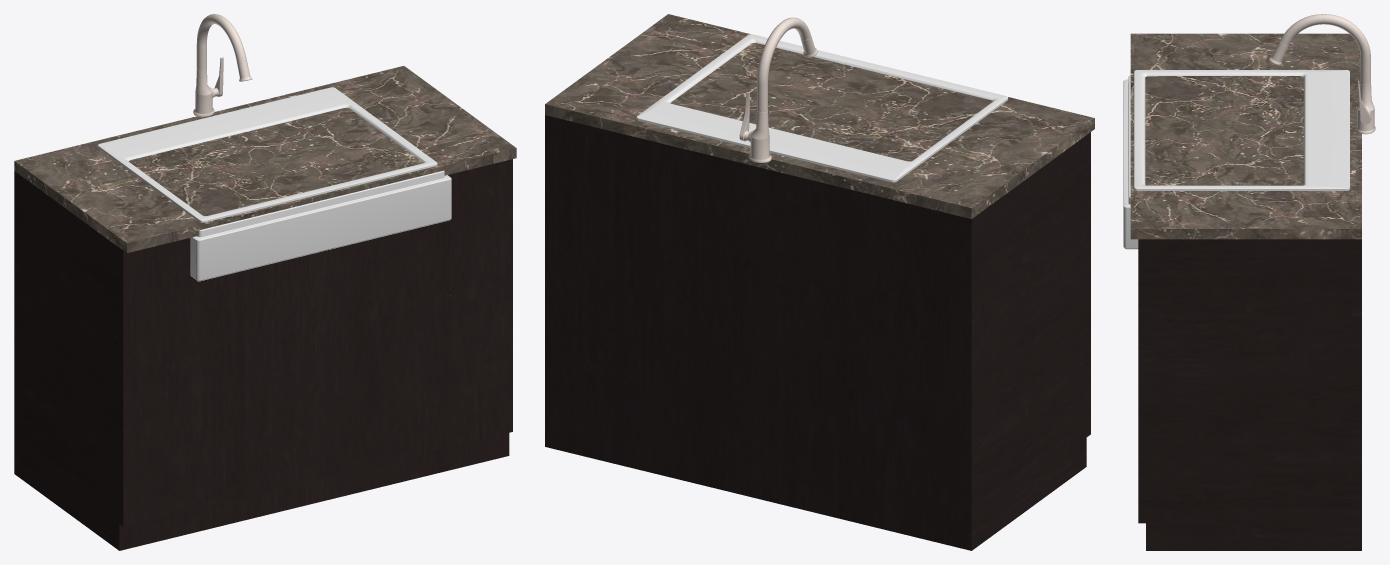
The model's file is kitchen_sink.glb.
The picture shows the model from 3 angles, left to right: view 1: azimuth 30°, elevation 25°; view 2: azimuth 150°, elevation 25°; view 3: azimuth 270°, elevation 25°; orthographic projection. The views are drawn at different scales.
Visible parts, largest first — view 1: countertop_i_4x2, sink_10, faucet_2; view 2: countertop_i_4x2, sink_10, faucet_2; view 3: countertop_i_4x2, sink_10, faucet_2.
Boxes of the visible parts, bbox=[...] form: countertop_i_4x2: bbox=[14, 66, 516, 550]; sink_10: bbox=[97, 87, 451, 281]; faucet_2: bbox=[193, 14, 252, 116]; countertop_i_4x2: bbox=[545, 14, 1094, 550]; sink_10: bbox=[636, 34, 1008, 182]; faucet_2: bbox=[739, 17, 817, 162]; countertop_i_4x2: bbox=[1130, 33, 1361, 550]; sink_10: bbox=[1123, 70, 1349, 249]; faucet_2: bbox=[1269, 14, 1375, 134].
Size of what is drawn, in the model's own units: 1.22 by 1.27 by 0.6646.
6 materials, 2 textured.
